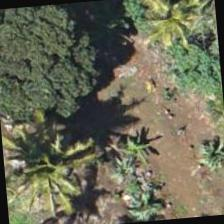Kelapa_Sawit: (4, 120, 102, 218), (118, 0, 214, 66)
